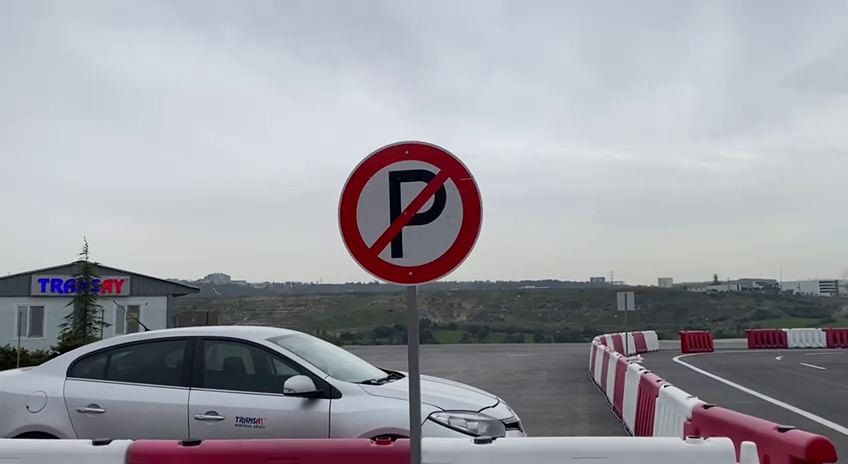noparking: (332, 136, 491, 292)
